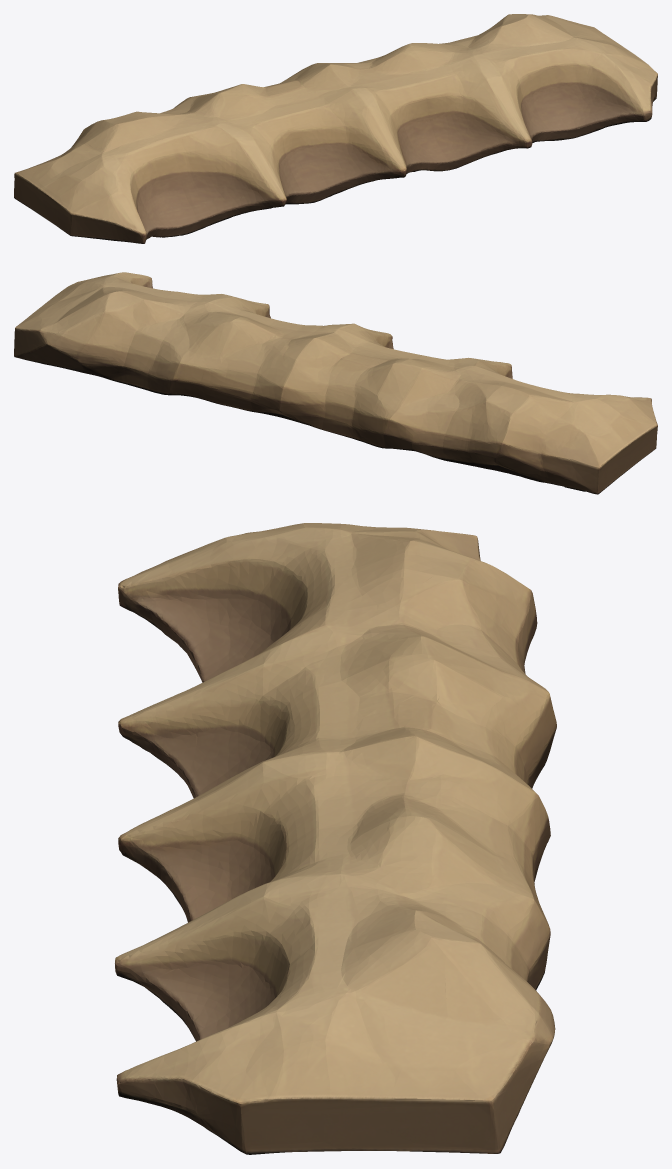
The picture shows the model from 3 angles, top to bottom: view 1: azimuth 30°, elevation 25°; view 2: azimuth 150°, elevation 25°; view 3: azimuth 270°, elevation 25°; orthographic projection. The views are drawn at different scales.
Parts seen in each view (by area): view 1: world; view 2: world; view 3: world.
Boxes of the visible parts, x1,y1,x2,y2 form: world: (14, 14, 657, 243); world: (14, 272, 657, 494); world: (115, 523, 556, 1154).
Size of the model in its own units: 28 by 3.89 by 9.19.
1 material, 1 textured.
